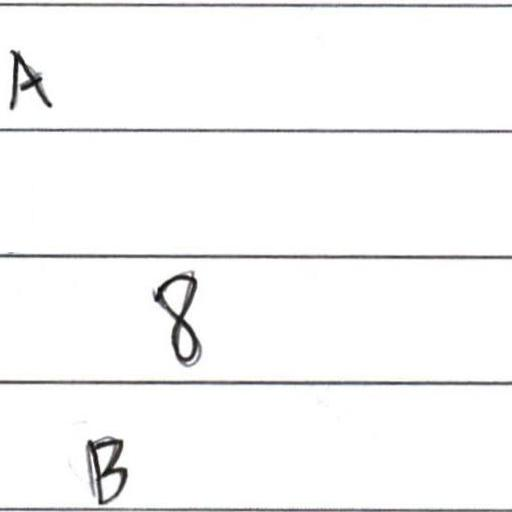ans: (143, 263, 205, 366), (82, 433, 133, 507), (6, 50, 53, 113)
